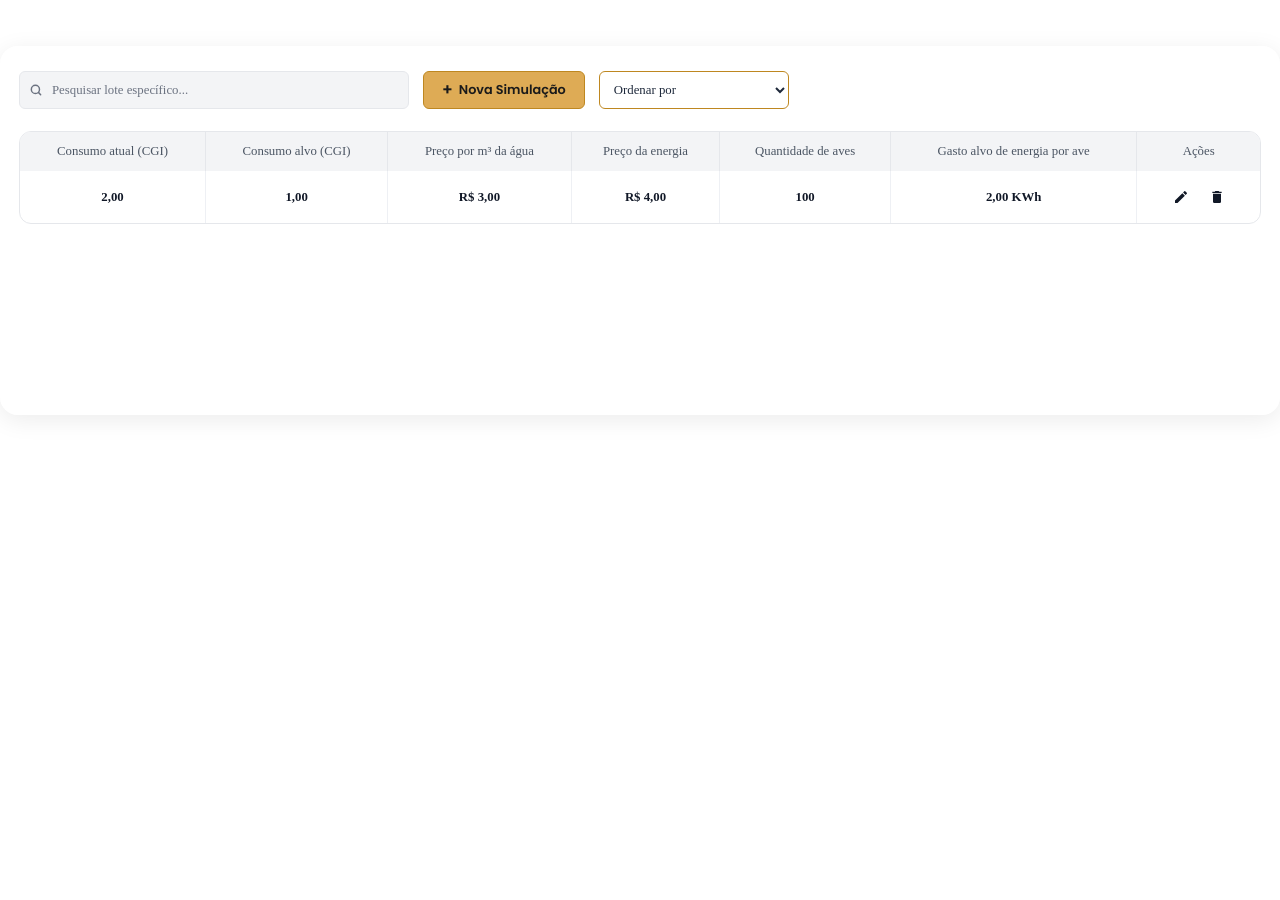
Test case: Editar simulação do lote L1 › preserva o diálogo quando salvar falha e permite fechar
Click the button named "Editar simulação do lote L1". click: (1181, 197)
box: [1165,181,1197,213]
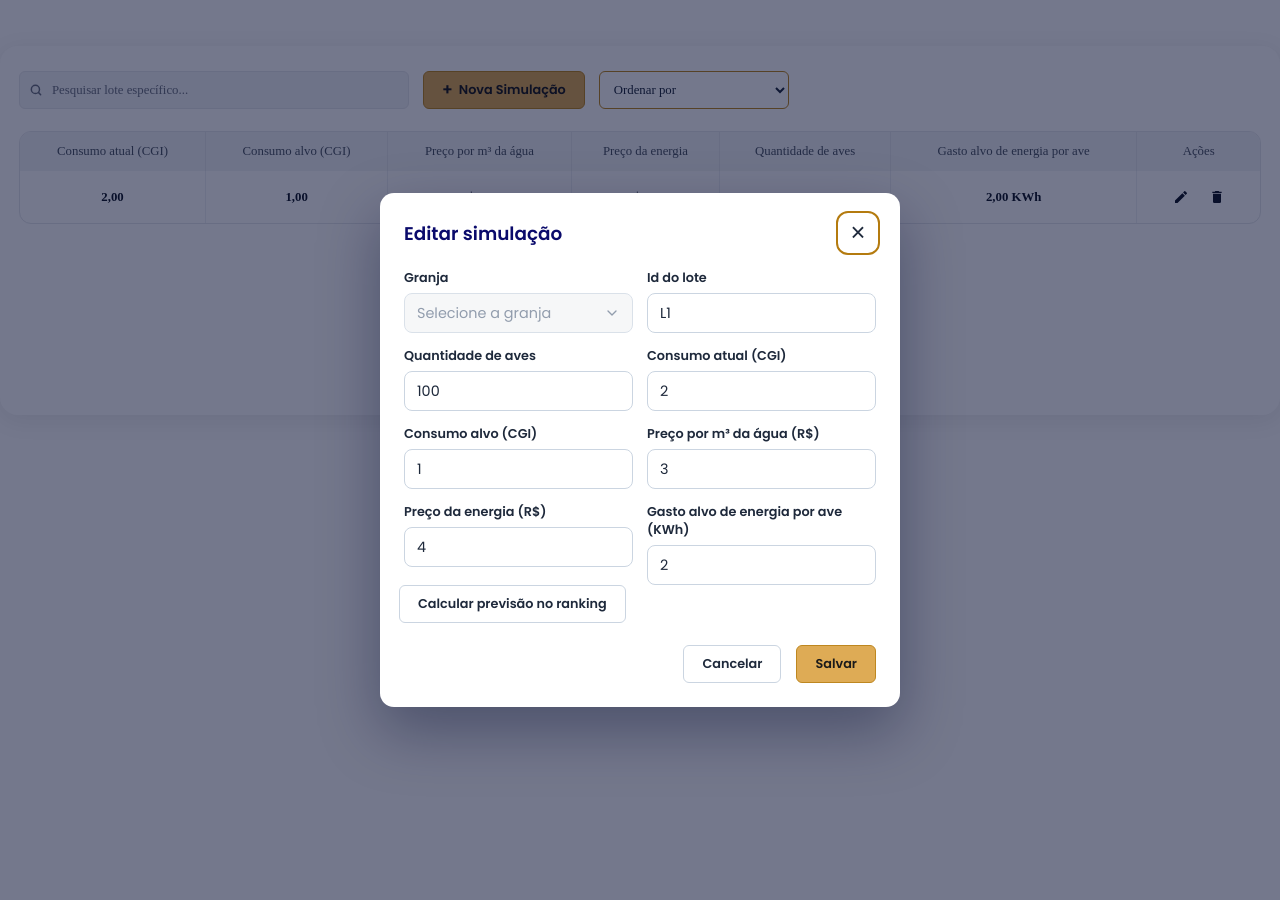
Submit the form, box [404,269,876,683]
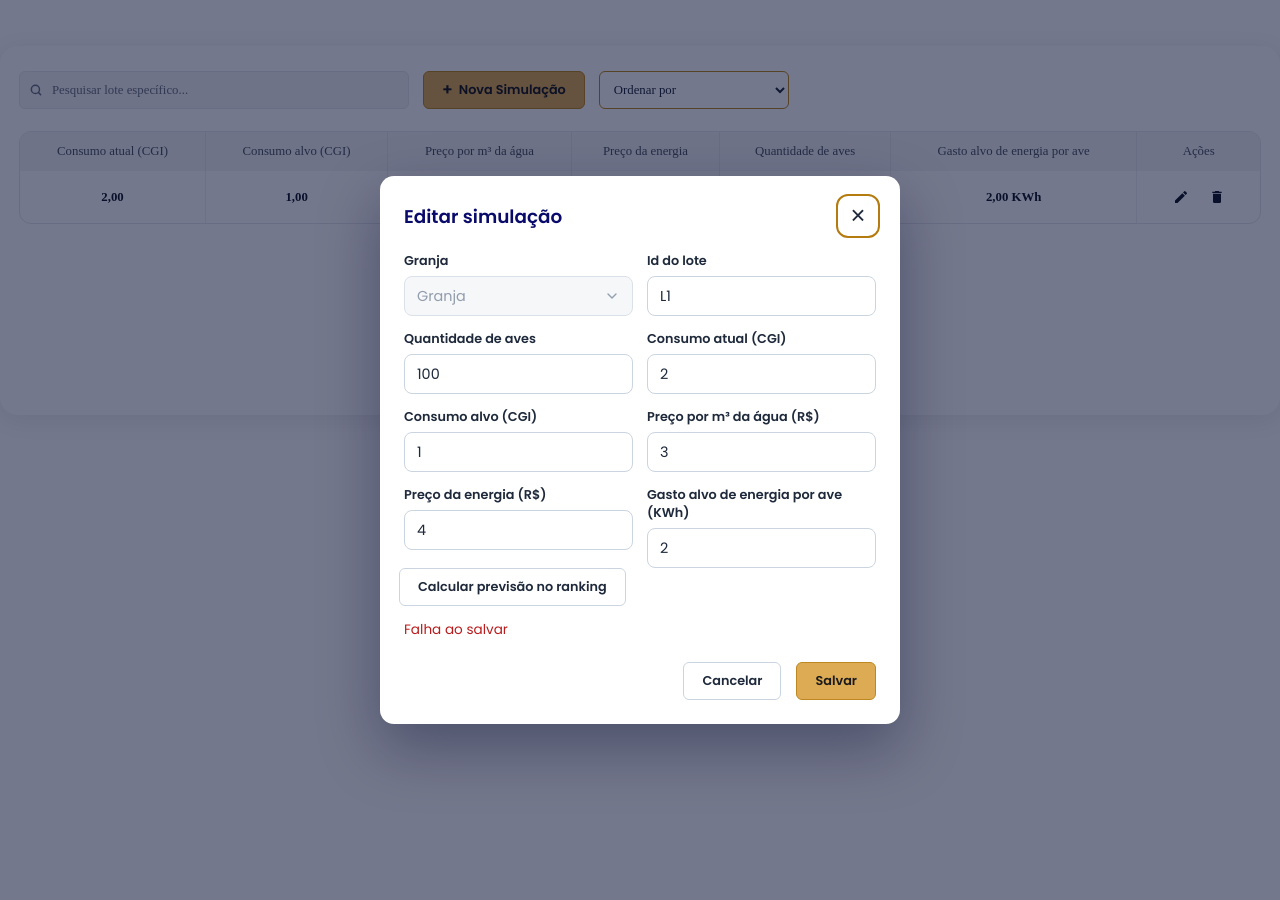
Result: the text "Falha ao salvar" is shown at [404,620,508,639]
Click the button named "Fechar". click: (858, 216)
box: [840,198,876,234]
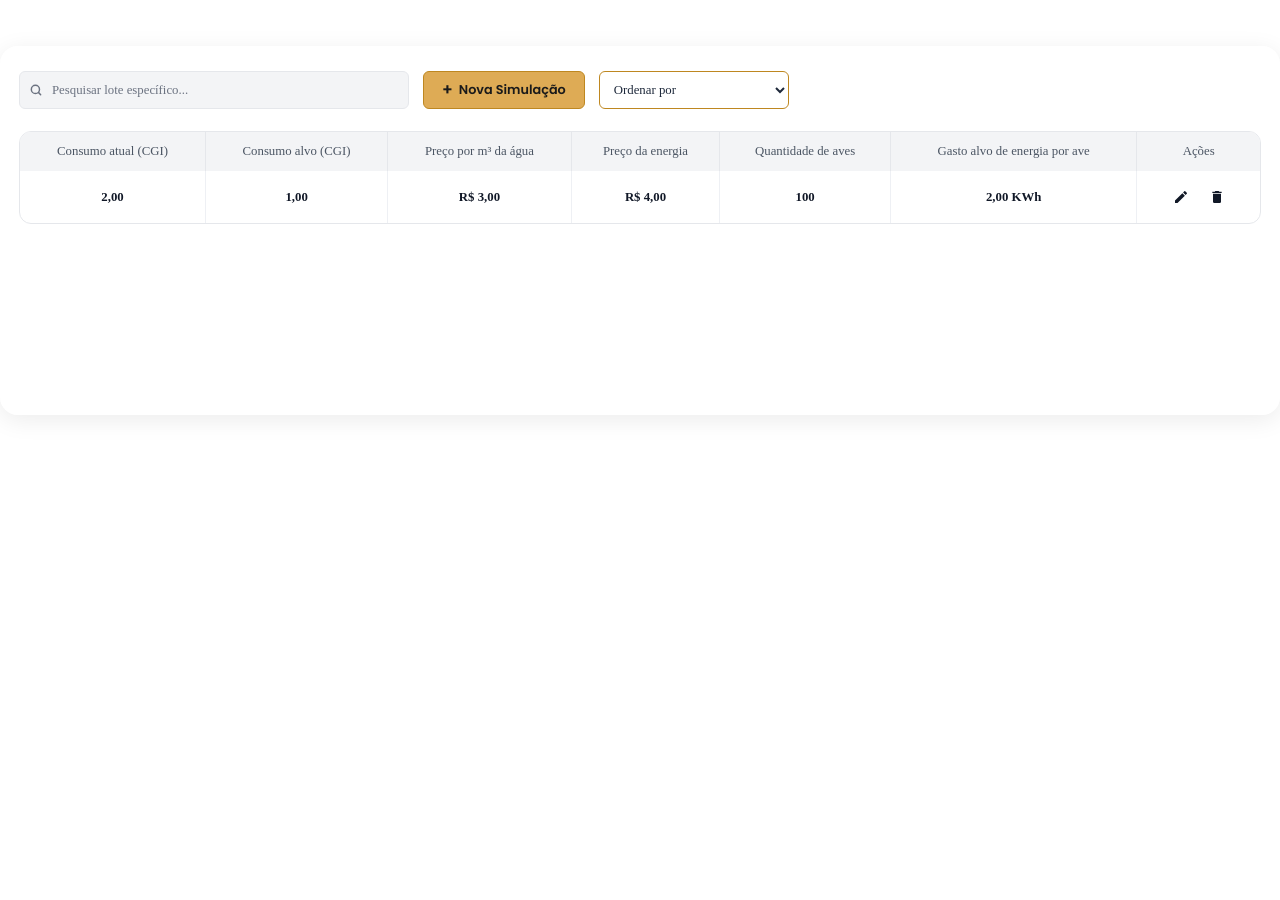
Result: the dialog is gone
